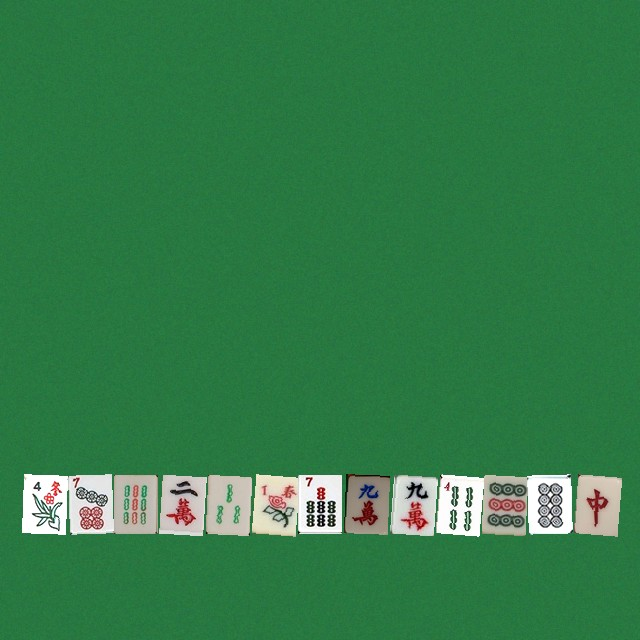tile: (21, 474, 65, 533), (67, 474, 111, 533), (113, 474, 157, 533), (159, 474, 203, 533), (205, 474, 249, 533), (251, 474, 295, 533), (297, 474, 341, 533), (343, 474, 387, 533), (389, 474, 433, 533), (435, 474, 479, 533), (481, 474, 525, 533), (527, 474, 571, 533), (573, 474, 617, 533)
